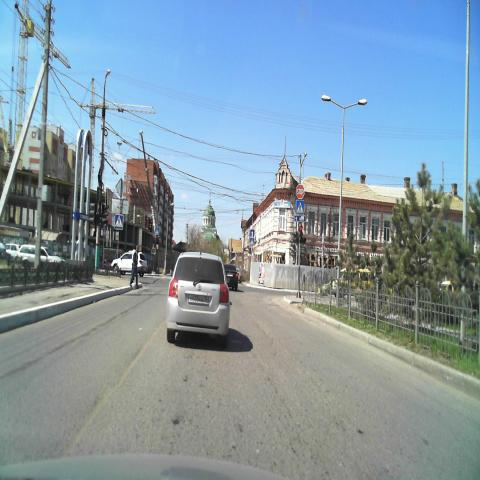2_5: (296, 185, 304, 199)
5_19_1: (114, 214, 124, 230), (296, 200, 304, 214), (154, 227, 160, 235), (250, 237, 254, 245)
5_5: (250, 229, 254, 237)
